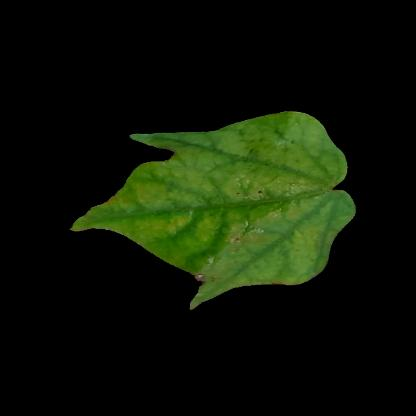curl_stage1: (248, 124, 330, 220), (138, 174, 229, 247), (256, 221, 322, 285), (178, 133, 252, 189)
